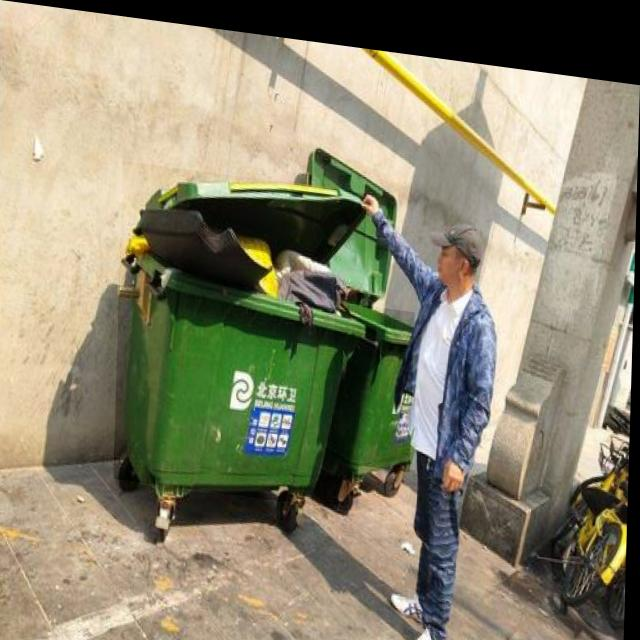garbage_bin: (333, 292, 416, 460)
overflow: (116, 157, 368, 501)
